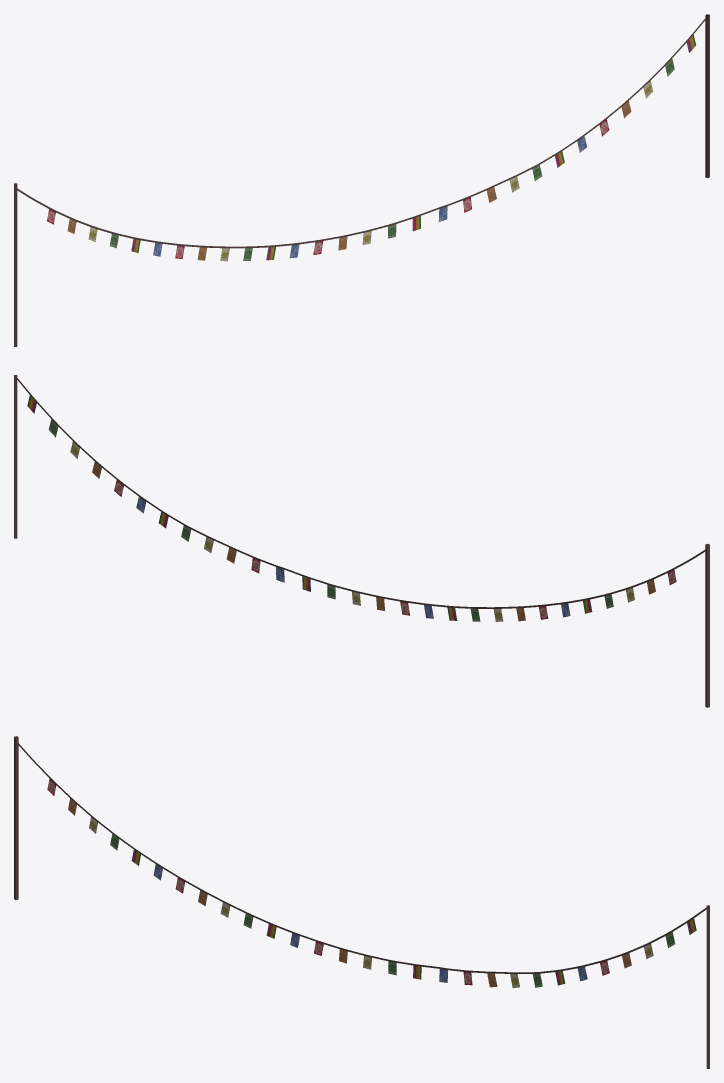
Rendered from SM_ENV_TCHEXA_Flags_A.fbx.
3 renders of one model, top to bottom at view 1: azimuth 30°, elevation 25°; view 2: azimuth 150°, elevation 25°; view 3: azimuth 330°, elevation 25°, orthographic.
Visible parts, largest first — view 1: SM_ENV_TCHEXA_Flags_A.mo; view 2: SM_ENV_TCHEXA_Flags_A.mo; view 3: SM_ENV_TCHEXA_Flags_A.mo.
Boxes of the visible parts, box(x1,y1,x2,y2) form: SM_ENV_TCHEXA_Flags_A.mo: box(14, 14, 709, 346); SM_ENV_TCHEXA_Flags_A.mo: box(14, 375, 709, 707); SM_ENV_TCHEXA_Flags_A.mo: box(14, 736, 709, 1068).
Size of the model in its own units: 6336 by 1411 by 36.81.
